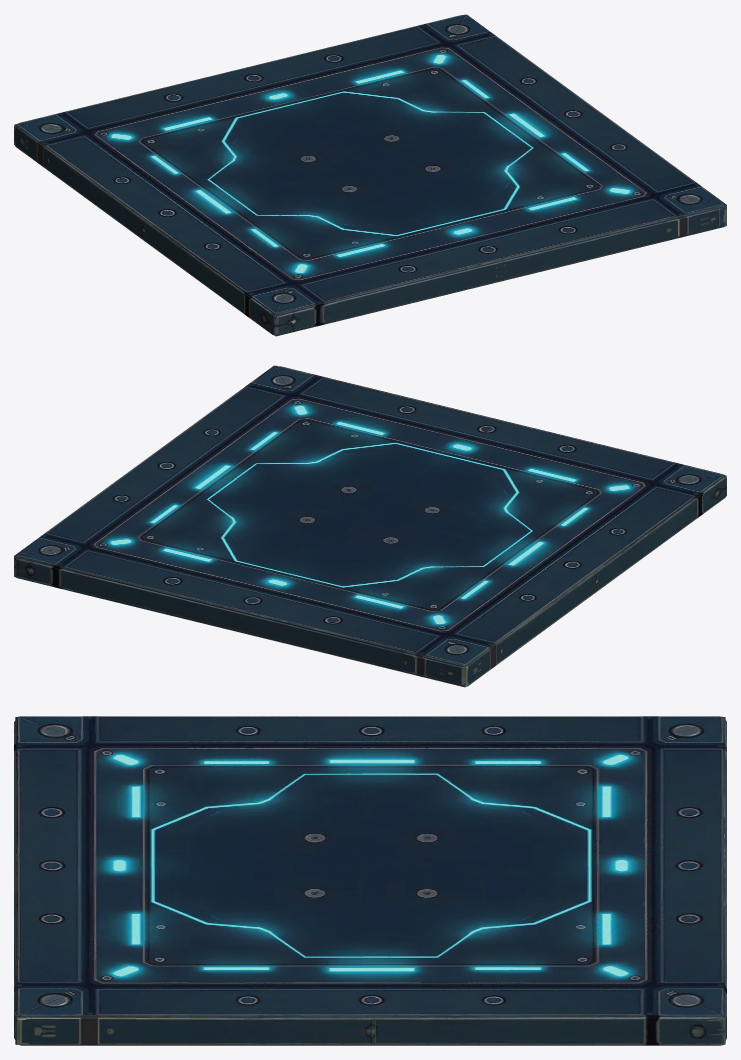
File: floor-panel.glb
3 views of the same model, one above another, from view 1: azimuth 30°, elevation 25°; view 2: azimuth 150°, elevation 25°; view 3: azimuth 270°, elevation 25° (orthographic). The views are drawn at different scales.
Bounding box in the file's own units: 0.127 × 0.006 × 0.127.
1 material, 1 textured.
